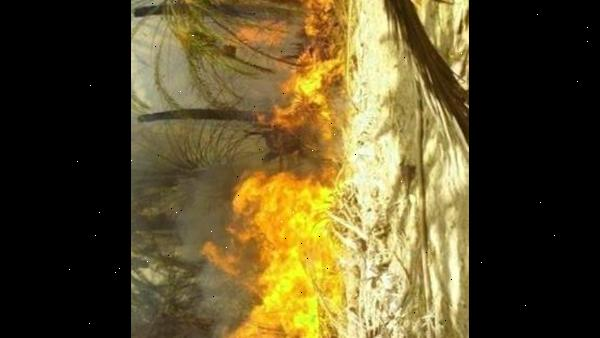fire: (165, 157, 361, 338), (244, 0, 347, 137)
